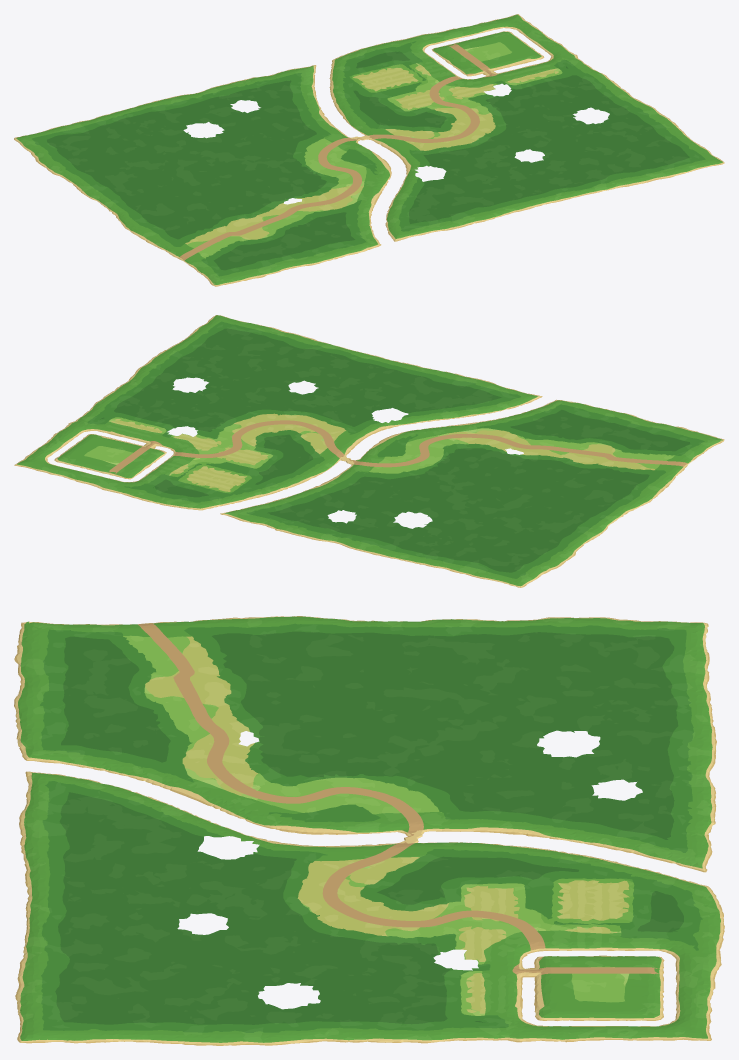
Rendered from Map-M3-Ground.fbx.
3 renders of one model, top to bottom at view 1: azimuth 30°, elevation 25°; view 2: azimuth 150°, elevation 25°; view 3: azimuth 270°, elevation 25°, orthographic. The views are drawn at different scales.
Parts seen in each view (by area): view 1: Map-M3-Ground-c21, Map-M3-Ground-c01, Map-M3-Ground-c22, Map-M3-Ground-c02, Map-M3-Ground-c11, Map-M3-Ground-c12, Map-M3-Ground-c31, Map-M3-Ground-c20, Map-M3-Ground-c00, Map-M3-Ground-c32, Map-M3-Ground-c10, Map-M3-Ground-c30; view 2: Map-M3-Ground-c21, Map-M3-Ground-c01, Map-M3-Ground-c22, Map-M3-Ground-c02, Map-M3-Ground-c12, Map-M3-Ground-c11, Map-M3-Ground-c31, Map-M3-Ground-c32, Map-M3-Ground-c20, Map-M3-Ground-c00, Map-M3-Ground-c10, Map-M3-Ground-c30; view 3: Map-M3-Ground-c21, Map-M3-Ground-c22, Map-M3-Ground-c01, Map-M3-Ground-c02, Map-M3-Ground-c12, Map-M3-Ground-c11, Map-M3-Ground-c31, Map-M3-Ground-c32, Map-M3-Ground-c20, Map-M3-Ground-c00, Map-M3-Ground-c10, Map-M3-Ground-c30.
Part boxes in pixels (box(x1,y1,x2,y2)): Map-M3-Ground-c21: box(400, 90, 645, 193); Map-M3-Ground-c01: box(100, 165, 333, 267); Map-M3-Ground-c22: box(313, 26, 555, 127); Map-M3-Ground-c02: box(14, 101, 244, 202); Map-M3-Ground-c11: box(245, 128, 489, 231); Map-M3-Ground-c12: box(155, 65, 399, 165); Map-M3-Ground-c31: box(556, 78, 698, 155); Map-M3-Ground-c20: box(490, 156, 672, 212); Map-M3-Ground-c00: box(194, 231, 360, 286); Map-M3-Ground-c32: box(468, 14, 608, 90); Map-M3-Ground-c10: box(335, 194, 513, 252); Map-M3-Ground-c30: box(646, 144, 724, 176); Map-M3-Ground-c21: box(155, 345, 400, 449); Map-M3-Ground-c01: box(465, 421, 697, 523); Map-M3-Ground-c22: box(65, 411, 309, 514); Map-M3-Ground-c02: box(376, 487, 610, 587); Map-M3-Ground-c12: box(223, 449, 464, 554); Map-M3-Ground-c11: box(311, 383, 554, 487); Map-M3-Ground-c31: box(101, 333, 244, 410); Map-M3-Ground-c32: box(14, 399, 154, 477); Map-M3-Ground-c20: box(245, 327, 422, 382); Map-M3-Ground-c00: box(555, 403, 724, 456); Map-M3-Ground-c10: box(401, 367, 580, 421); Map-M3-Ground-c30: box(192, 315, 270, 344); Map-M3-Ground-c21: box(104, 866, 411, 996); Map-M3-Ground-c22: box(408, 866, 716, 998); Map-M3-Ground-c01: box(104, 616, 412, 739); Map-M3-Ground-c02: box(409, 617, 715, 740); Map-M3-Ground-c12: box(408, 738, 715, 870); Map-M3-Ground-c11: box(104, 738, 411, 868); Map-M3-Ground-c31: box(104, 995, 411, 1045); Map-M3-Ground-c32: box(409, 995, 712, 1043); Map-M3-Ground-c20: box(15, 866, 107, 998); Map-M3-Ground-c00: box(14, 621, 107, 741); Map-M3-Ground-c10: box(17, 738, 107, 870); Map-M3-Ground-c30: box(16, 995, 107, 1043).
Size of the model in its own units: 167 by 0.4899 by 117.
